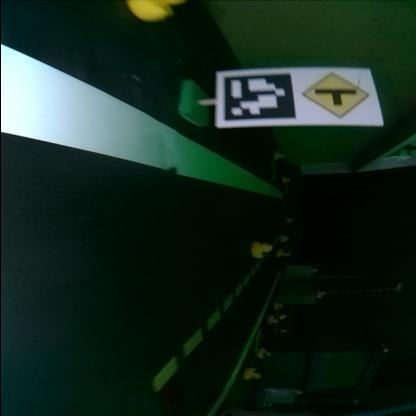Duckie: (126, 1, 186, 22), (252, 242, 272, 258), (243, 369, 261, 381), (258, 349, 270, 359), (274, 153, 286, 160), (268, 316, 278, 324), (281, 251, 291, 257), (280, 236, 288, 242), (318, 292, 326, 298), (284, 217, 292, 223), (274, 304, 282, 309), (282, 178, 288, 184)
Intersection sign: (301, 71, 375, 121)
QR code: (220, 72, 296, 124)
